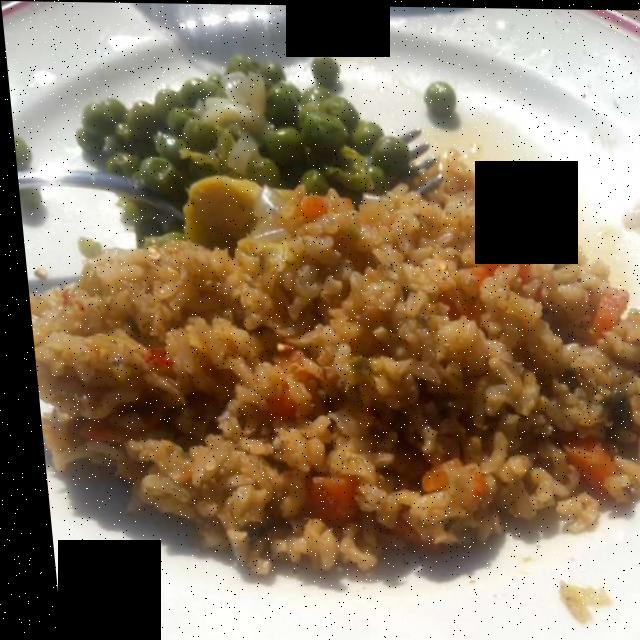cantonese-fried-rice: (31, 156, 640, 572)
onion: (160, 67, 282, 179)
